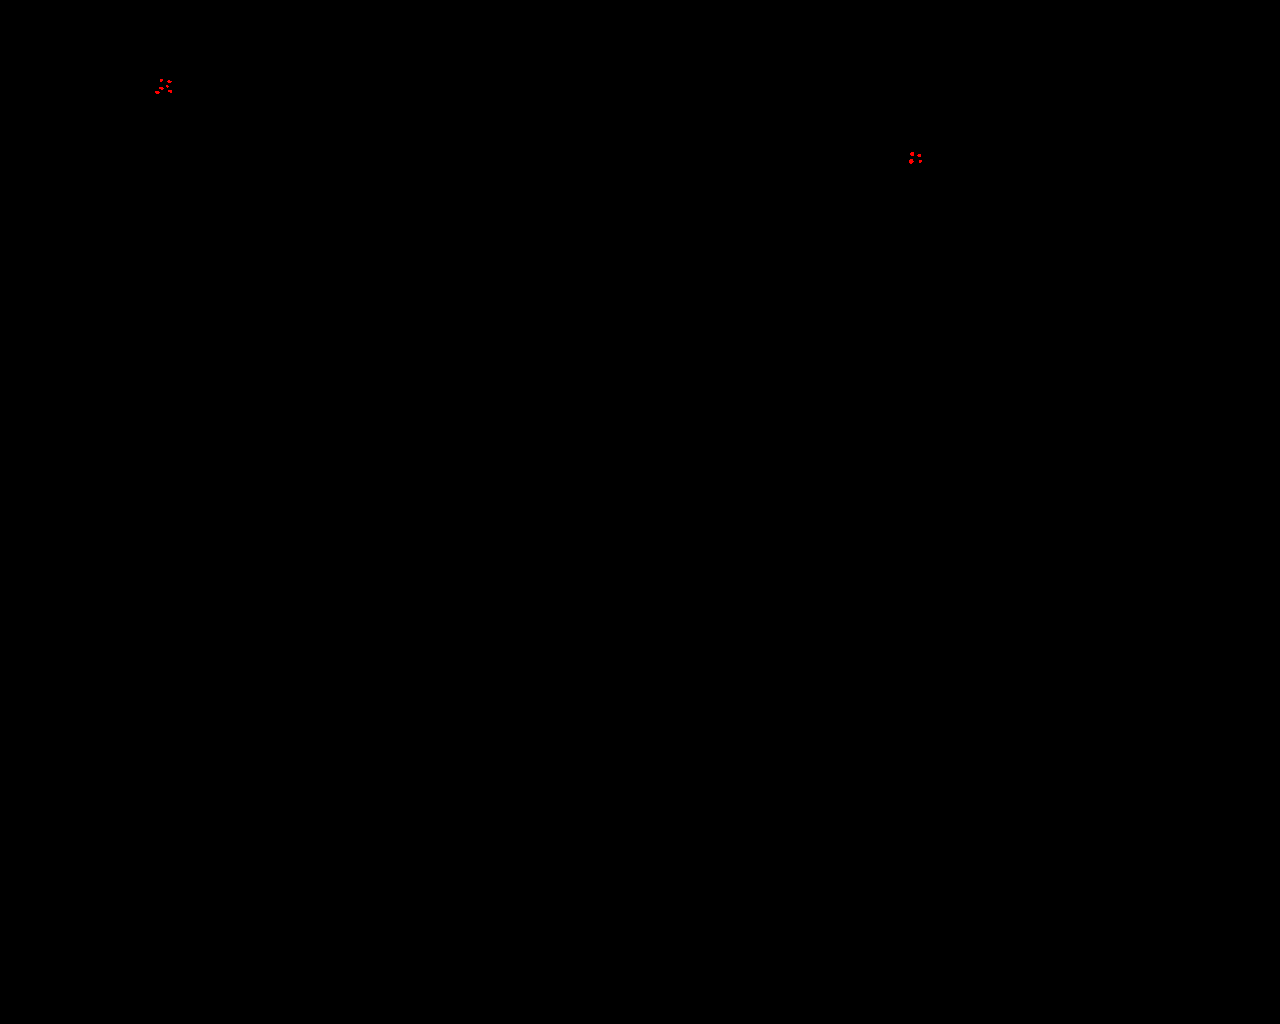Target: (909, 159, 914, 164), (910, 152, 914, 156), (159, 87, 164, 90), (155, 91, 160, 94), (168, 90, 172, 93), (167, 80, 172, 83), (166, 85, 169, 88), (917, 154, 921, 157), (160, 79, 163, 82), (920, 160, 922, 163)
